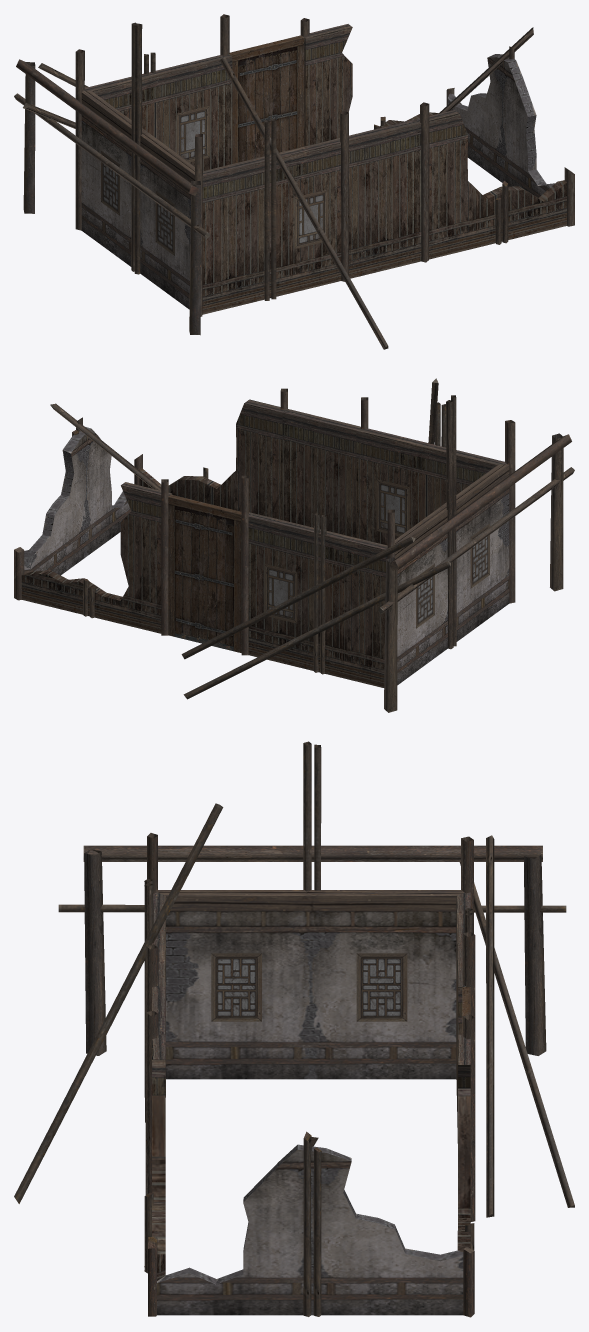
Rendered from b_zx_fangzi06_01_lod1.FBX.
3 views of the same model, one above another, from view 1: azimuth 30°, elevation 25°; view 2: azimuth 150°, elevation 25°; view 3: azimuth 270°, elevation 25° (orthographic). The views are drawn at different scales.
Visible parts, largest first — view 1: b_zx_fangzi06_03_lod1; view 2: b_zx_fangzi06_03_lod1; view 3: b_zx_fangzi06_03_lod1.
Part boxes in pixels (left/top/right/bottom): b_zx_fangzi06_03_lod1: left=14, top=14, right=574, bottom=349; b_zx_fangzi06_03_lod1: left=14, top=378, right=574, bottom=712; b_zx_fangzi06_03_lod1: left=14, top=741, right=574, bottom=1317.
Size of the model in its own units: 15.16 by 8.87 by 12.19.
